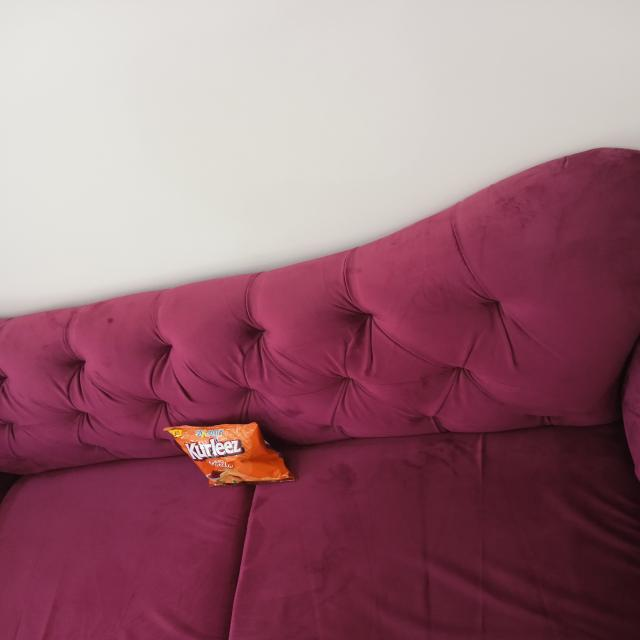Plastic: (156, 412, 300, 488)
